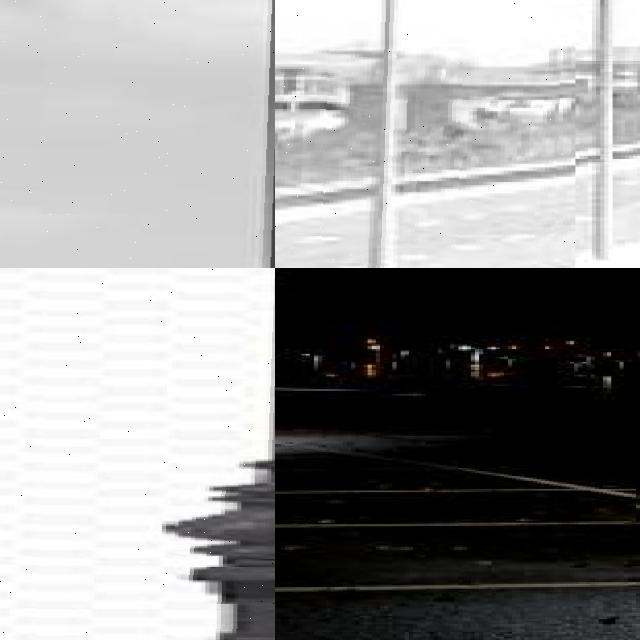street light: (0, 268, 275, 640), (275, 0, 575, 268), (0, 0, 275, 268), (464, 0, 640, 260), (458, 346, 504, 395)
